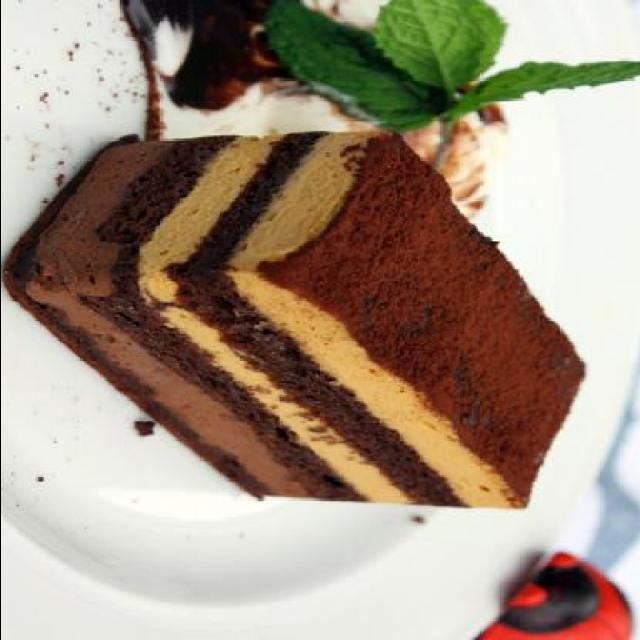Tiramisu: (50, 145, 592, 517)
